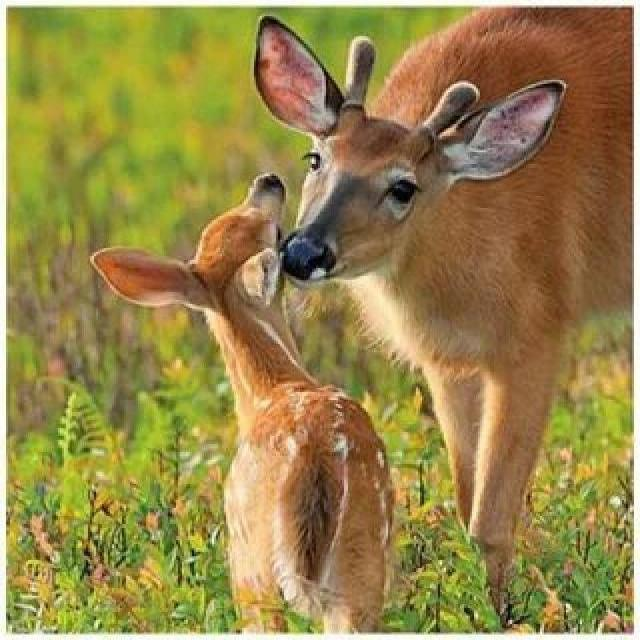deer: (192, 4, 640, 583), (144, 139, 440, 620)
